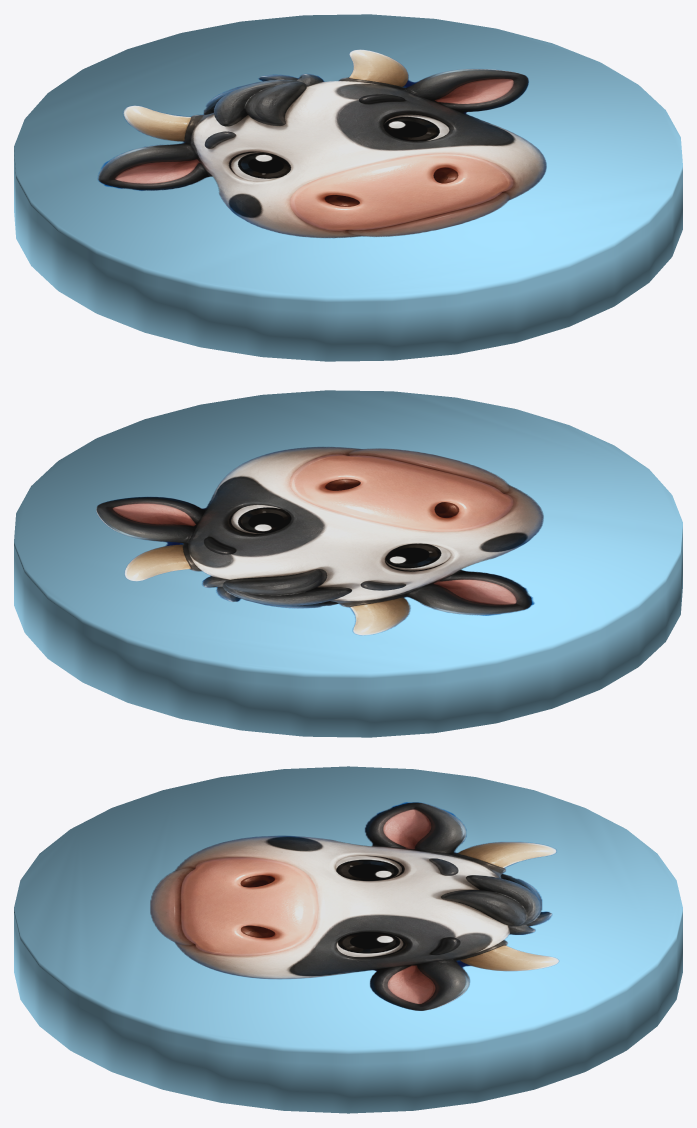
Rendered from Cow Pawn .glb.
The picture shows the model from 3 angles, top to bottom: view 1: azimuth 30°, elevation 25°; view 2: azimuth 150°, elevation 25°; view 3: azimuth 270°, elevation 25°; orthographic projection.
Parts seen in each view (by area): view 1: Cow; view 2: Cow; view 3: Cow.
Part boxes in pixels (box(x1,y1,x2,y2)): Cow: box(14, 14, 682, 361); Cow: box(14, 390, 682, 737); Cow: box(14, 766, 682, 1113).
Size of the model in its own units: 2 by 0.2157 by 2.
2 materials, 1 textured.
